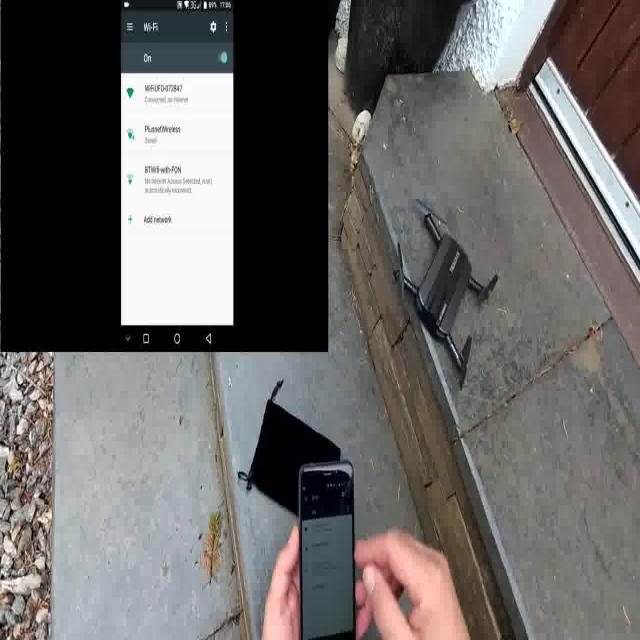drone: (391, 193, 500, 392)
